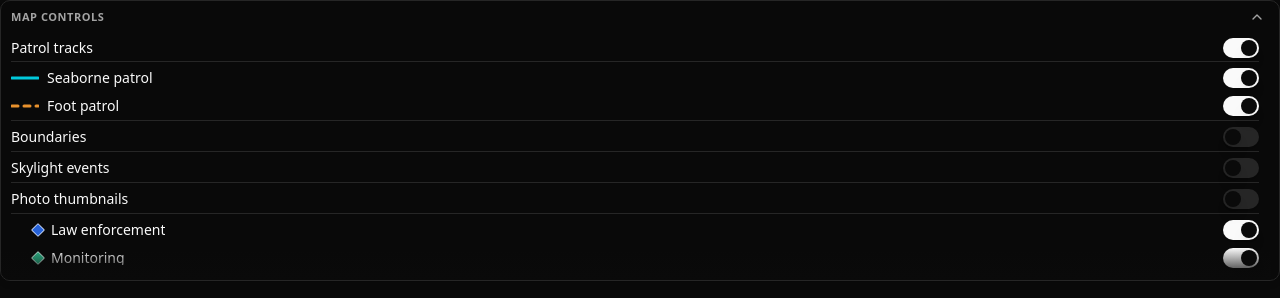
Test case: MAP CONTROLS — scroll affordances › drops the fade when the card is collapsed
The image size is (1280, 298).
Check: the element with test id "map-controls-scroll-fade" is shown, box [1,248,1271,280]
Click the button named "Collapse map controls": x=1257, y=17 [1245,5,1269,29]
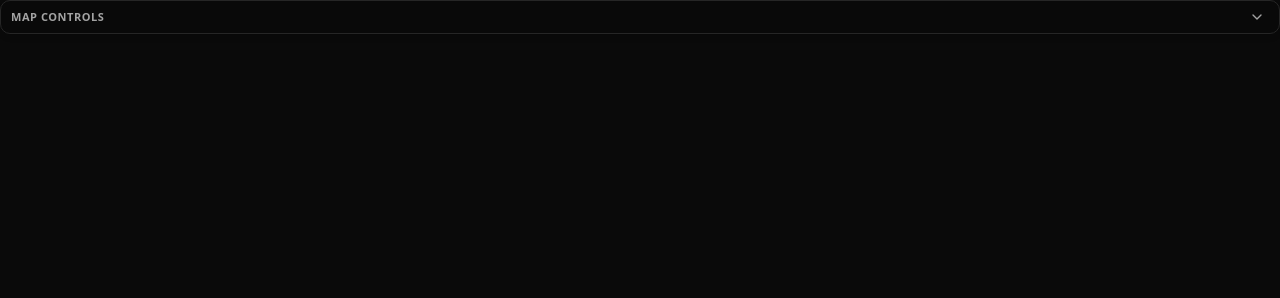
Check: the element with test id "map-controls-scroll-area" is gone
Check: the element with test id "map-controls-scroll-fade" is gone
